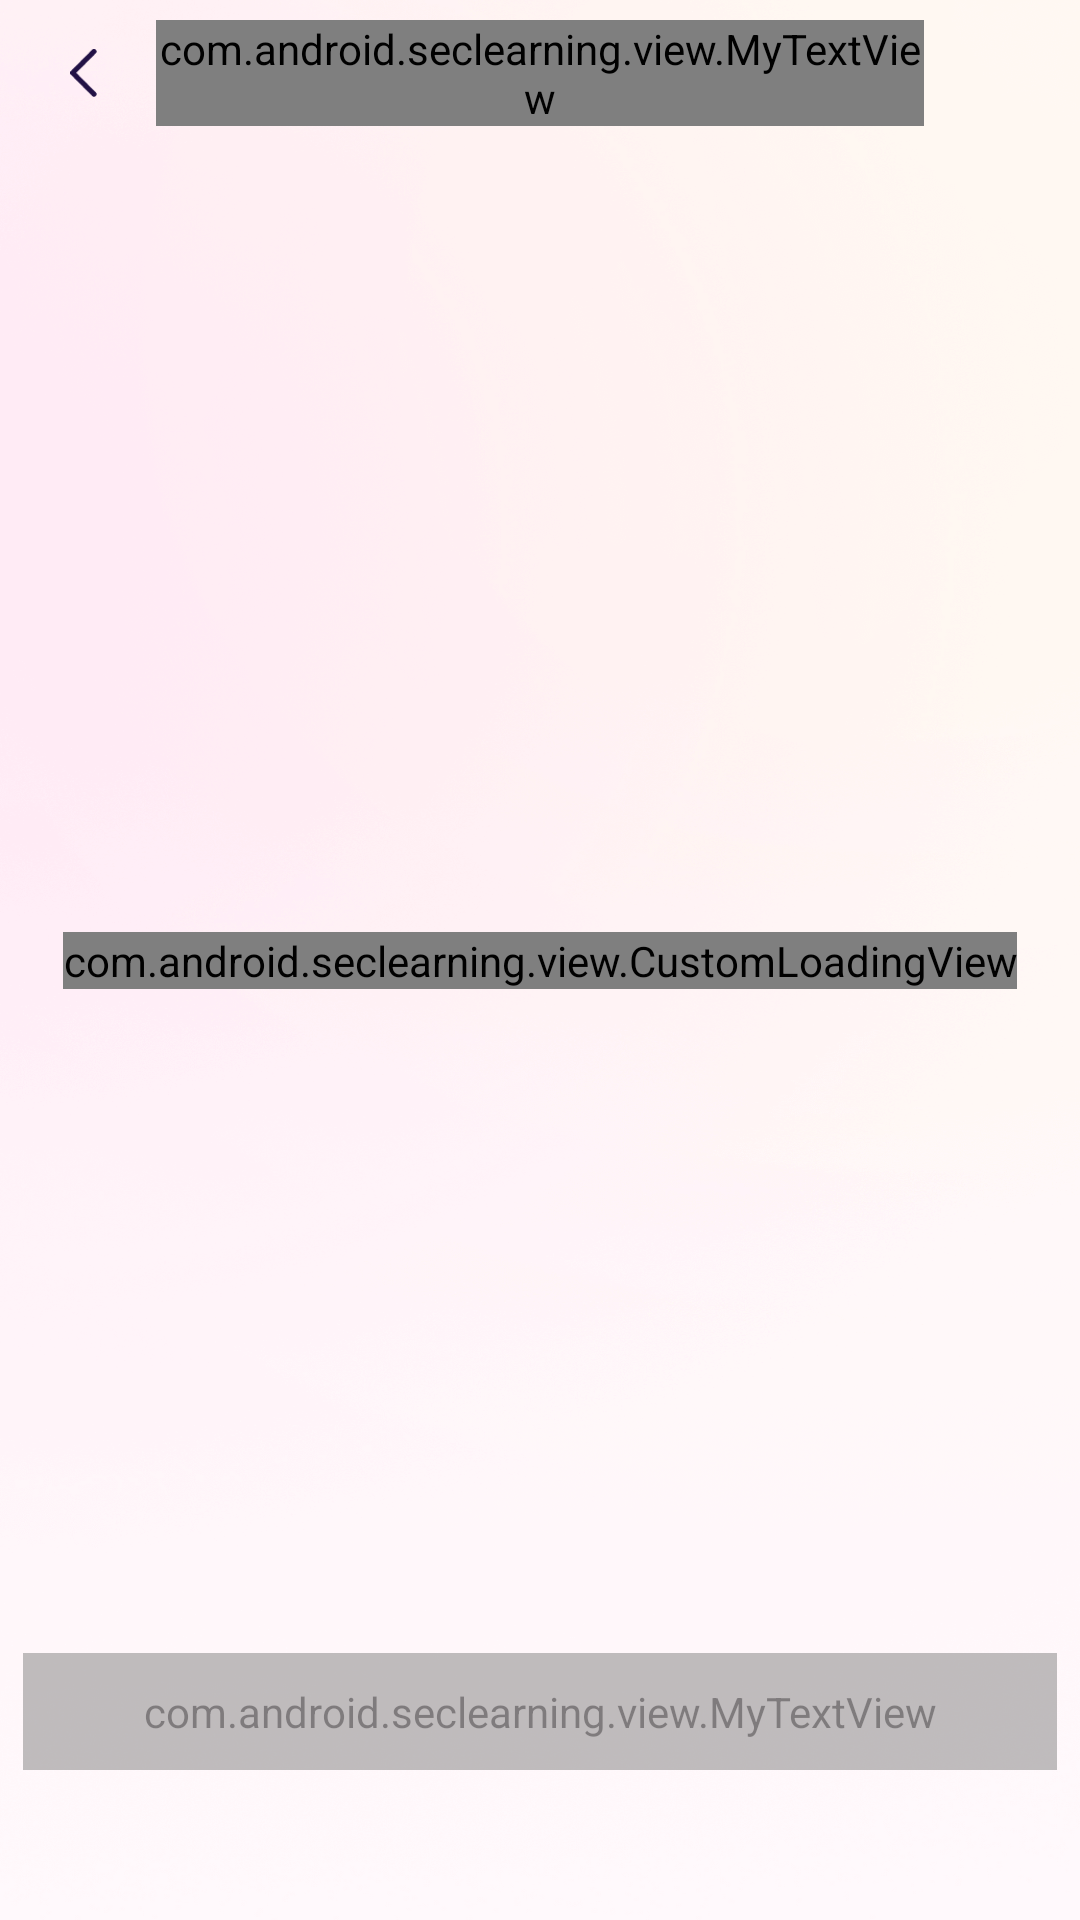

Screen size 1080x1920. Icon name, then its box in pixels as (x1, y1, x2, y2):
back: (70, 49, 97, 97)
